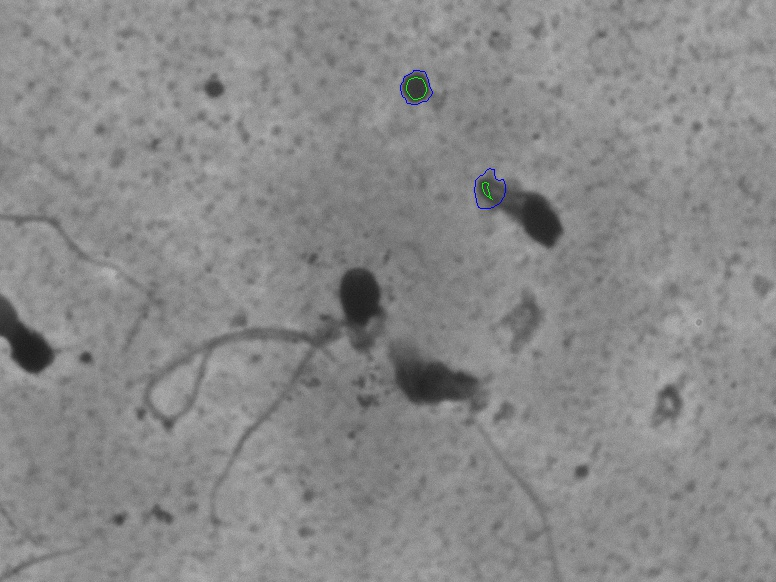Abnormal: (454, 141, 584, 281), (313, 239, 395, 370)
